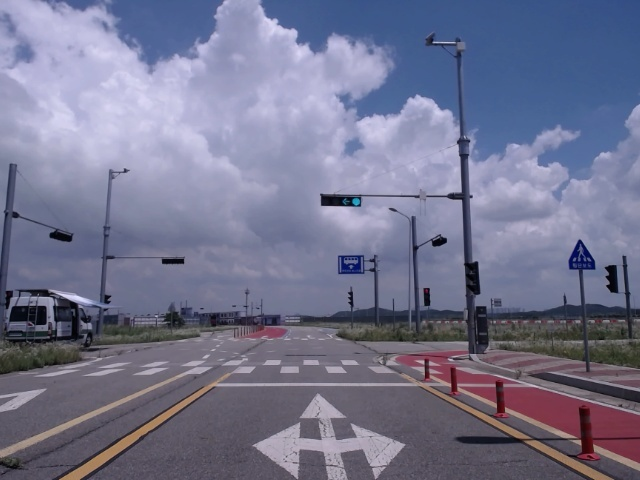all_green_4: (320, 194, 363, 204)
